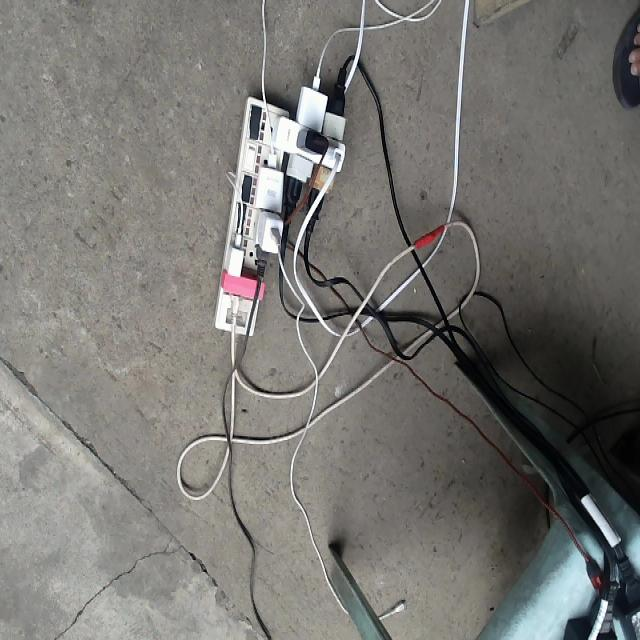-: (212, 72, 348, 336)
